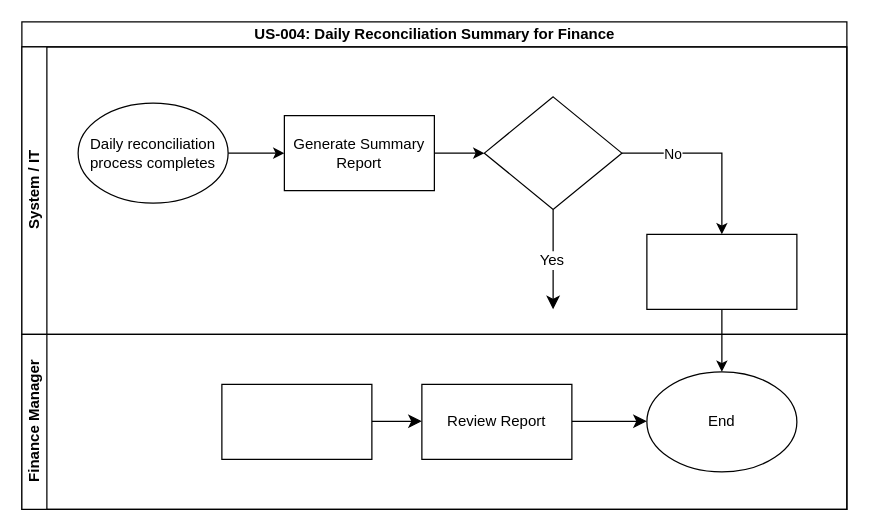
The diagram is 869 pixels wide and 531 high, and some of its shapes have lost their labels. The centre of each missing label's shape, as x and y in pixels:
"Highlight Match Rate" goes at [552,152].
"Receive Report" goes at [296,421].
"Send to Customer Care" goes at [721,271].
